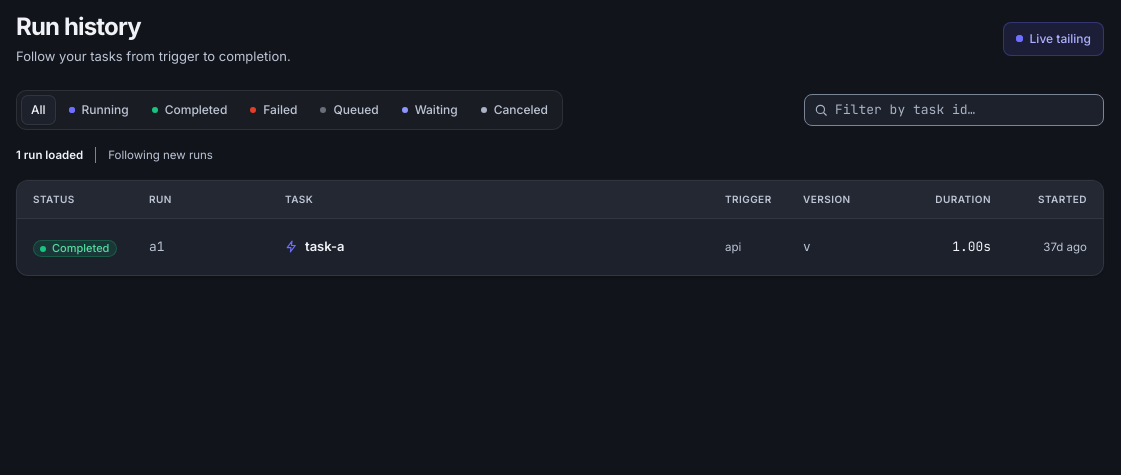
it: RunsList empty states › clears status and task ID together while retaining the environment and live mode
Expected: the text "a1" is shown, [149,238,164,256]
Click the button "Failed" at (274, 110), box [240,95,307,125]
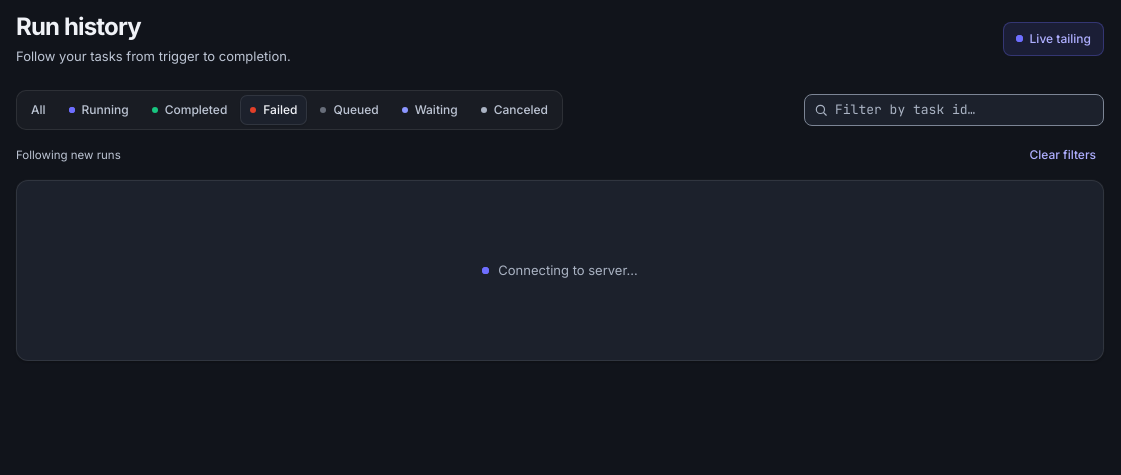
Type "missing-task" into the field labelled "Filter by task id" at (954, 110), box [804,94,1104,126]
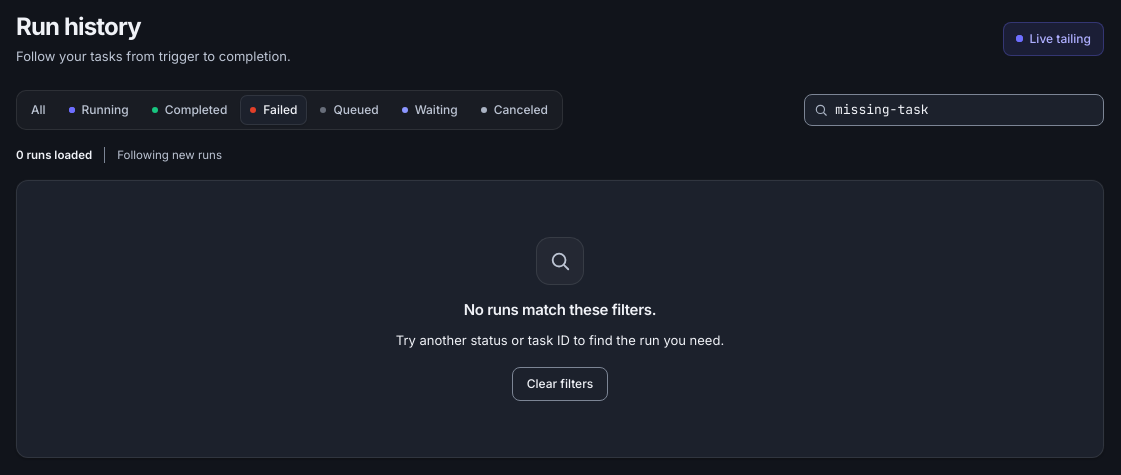
Now the heading "No runs match these filters." is shown, box [464,301,656,318]
Click the button "Clear filters" at (560, 384), box [512,367,608,401]
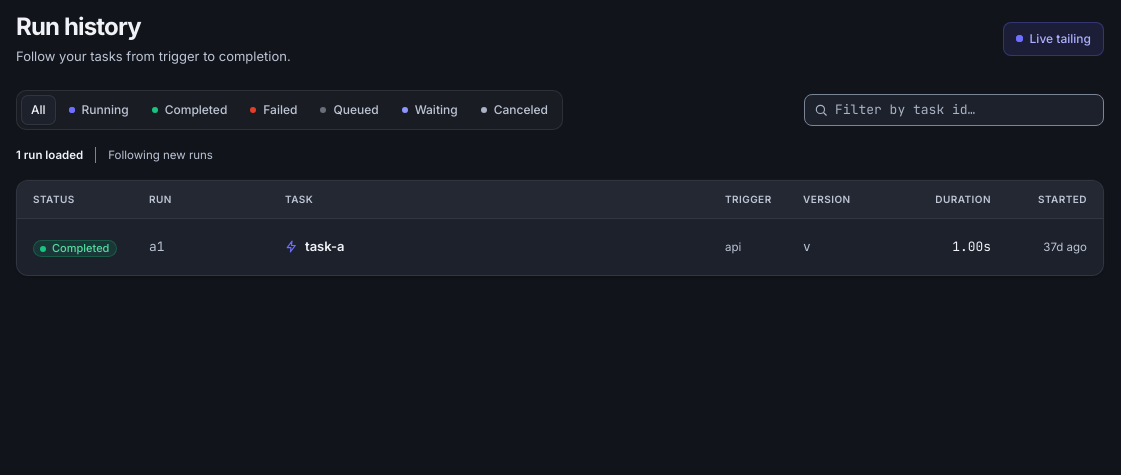
Now the text "a1" is shown, box [149,238,164,256]
Now the field labelled "Filter by task id" is empty, box [804,94,1104,126]
